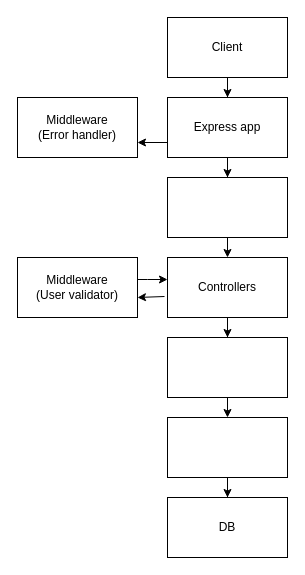
The diagram is 305 pixels wide and 575 high, and some of its shapes have lost their labels. The centre of each missing label's shape, as x and y in pixels:
Models: pixel 227 447
Routes: pixel 227 207
Services: pixel 227 367
